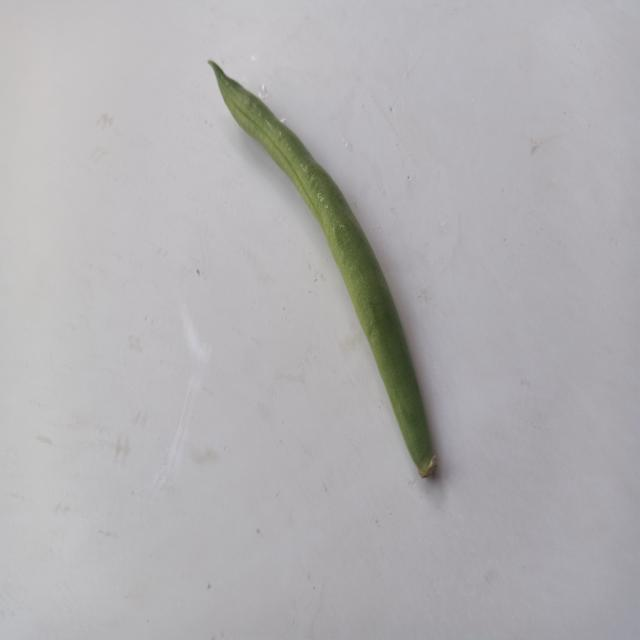Beans: (193, 28, 452, 494)
